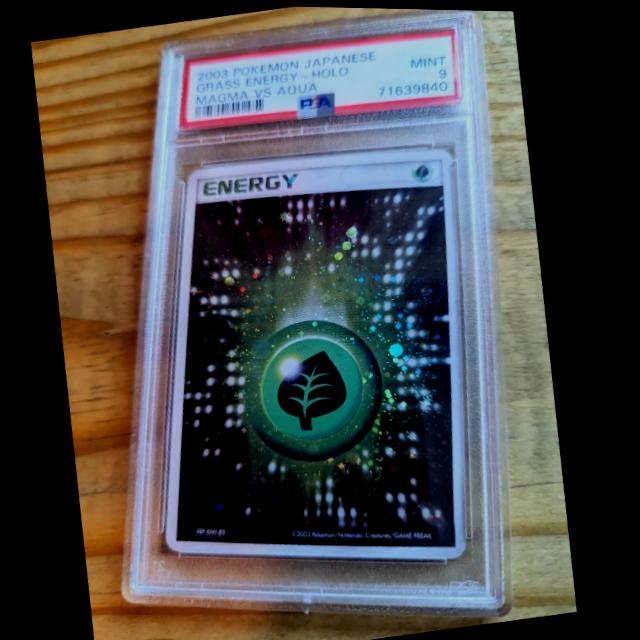card: (169, 144, 471, 556)
psa_label: (180, 26, 460, 129)
psa_slab: (124, 8, 519, 615)
